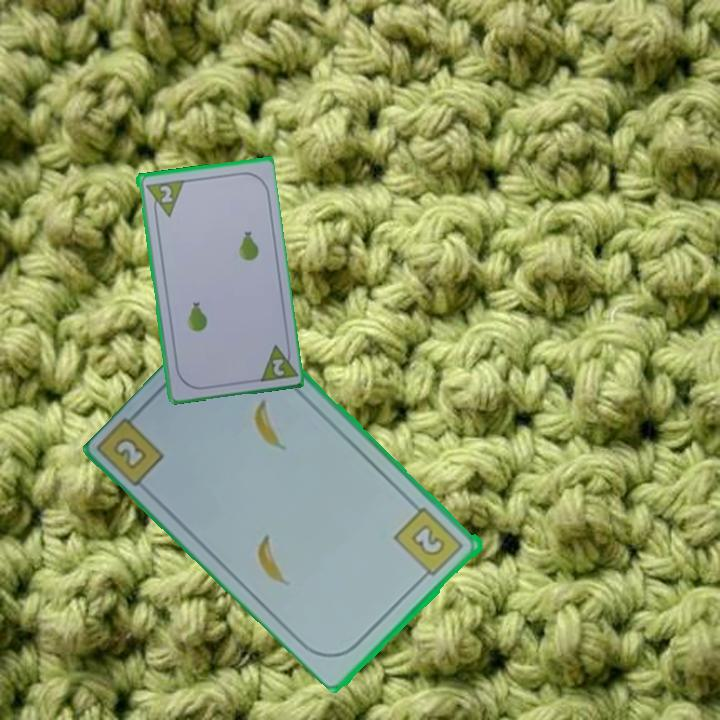2b: (391, 503, 467, 584), (110, 433, 151, 473)
2p: (156, 181, 175, 205), (268, 355, 287, 379)
